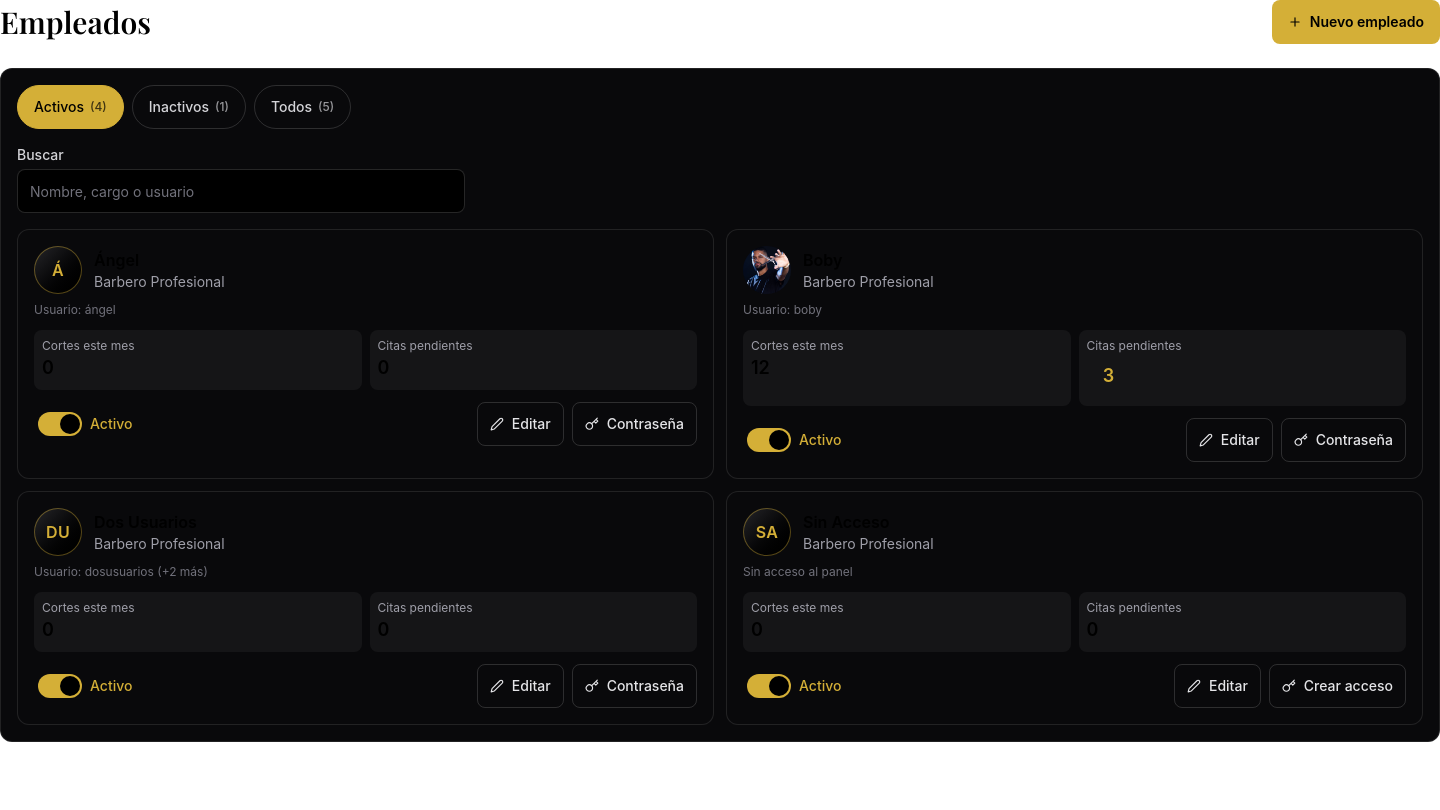
Test: Empleados: crear › un error sin campo (p. ej. de red) se muestra arriba del formulario
This screenshot has width=1440, height=810.
Click the button "Nuevo empleado" at (1356, 22), box left=1272, top=0, right=1439, bottom=44
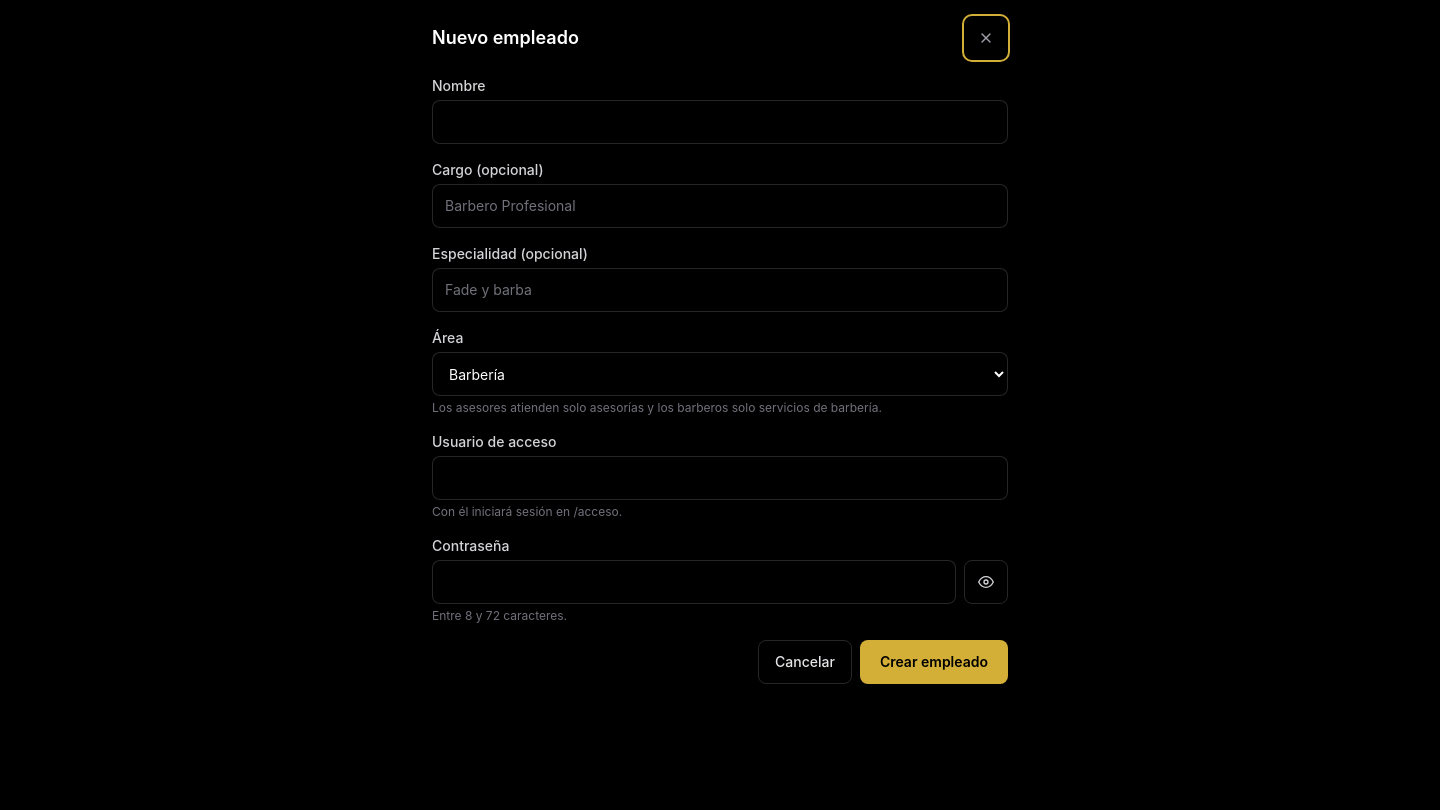
Type "Nuevo" into the field labelled "Nombre" at (720, 122), box left=432, top=100, right=1008, bottom=144
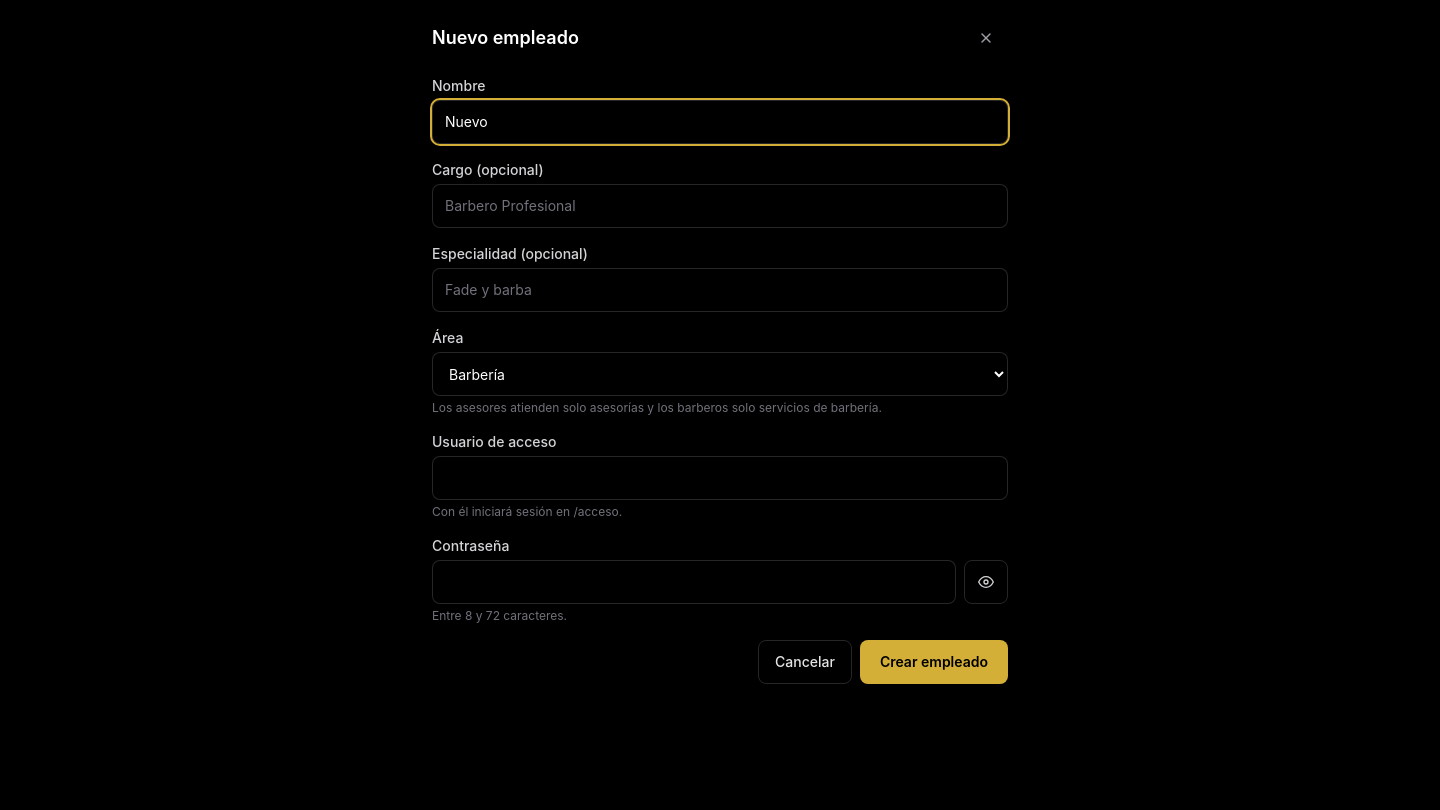
Type "nuevo01" into the field labelled "Usuario de acceso" at (720, 478), box left=432, top=456, right=1008, bottom=500
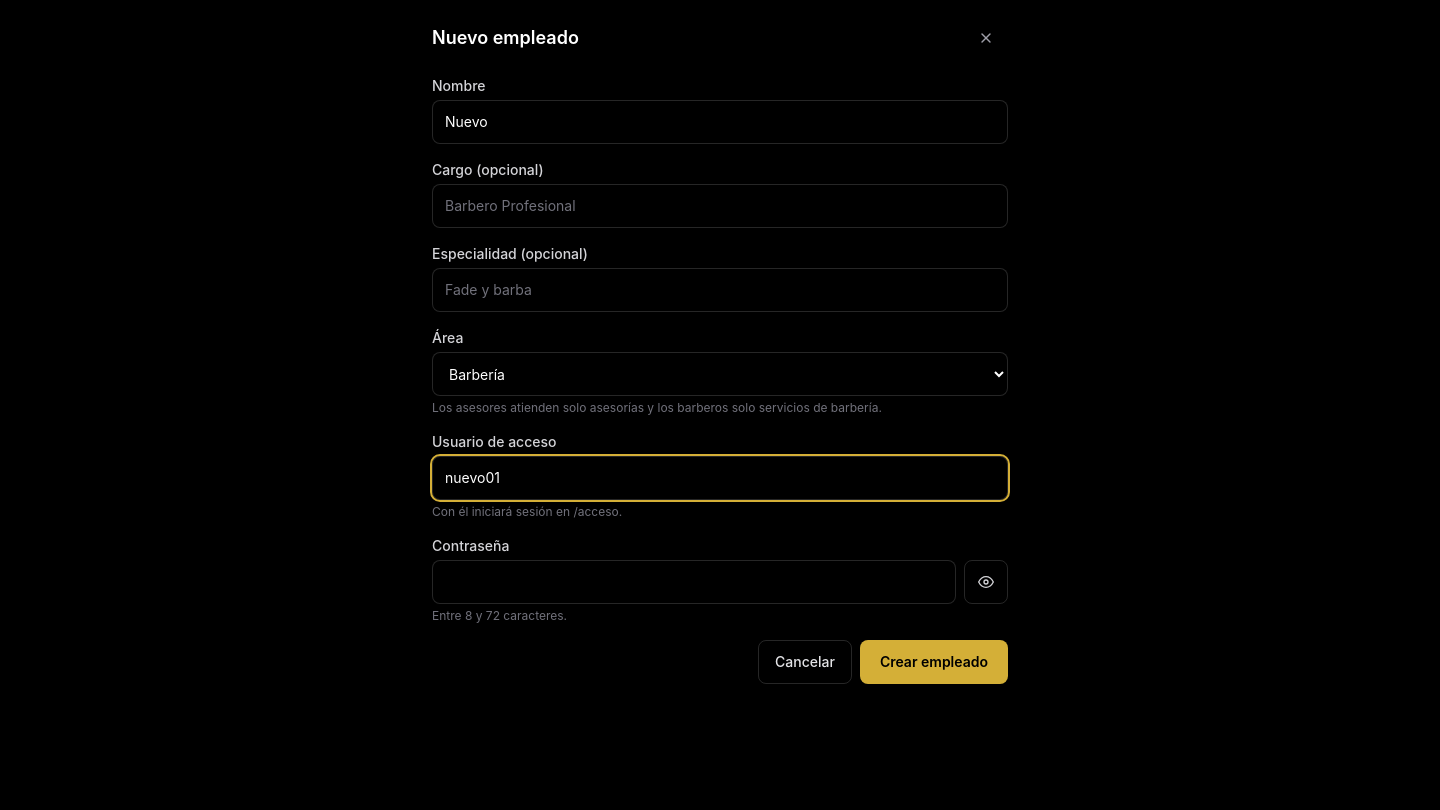
Type "clave-segura-1" into the password field labelled "Contraseña" at (694, 582), box left=432, top=560, right=956, bottom=604
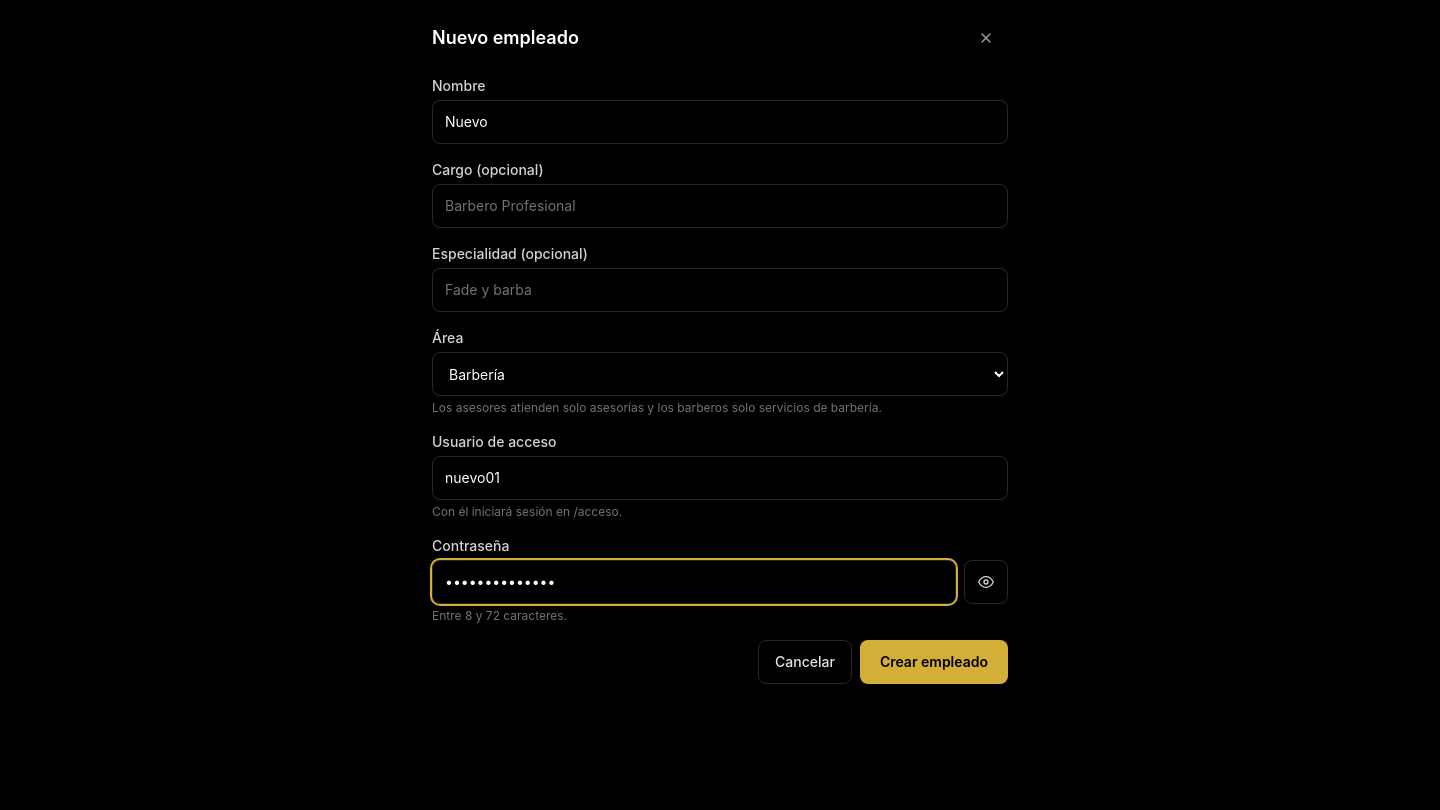
Click the button "Crear empleado" at (934, 662), box left=860, top=640, right=1008, bottom=684
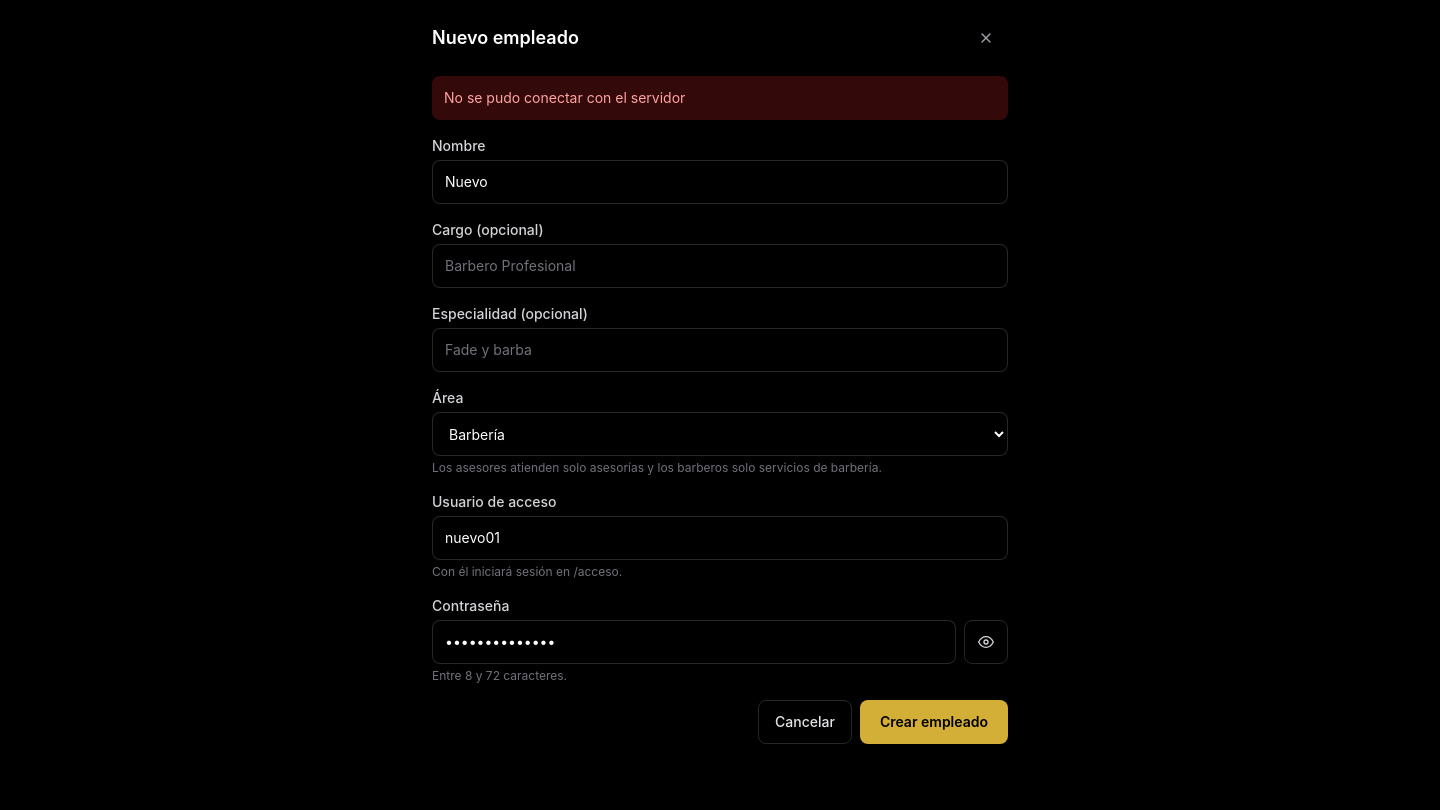
Now the text "No se pudo conectar con el servidor" is shown, box left=432, top=76, right=1008, bottom=120
